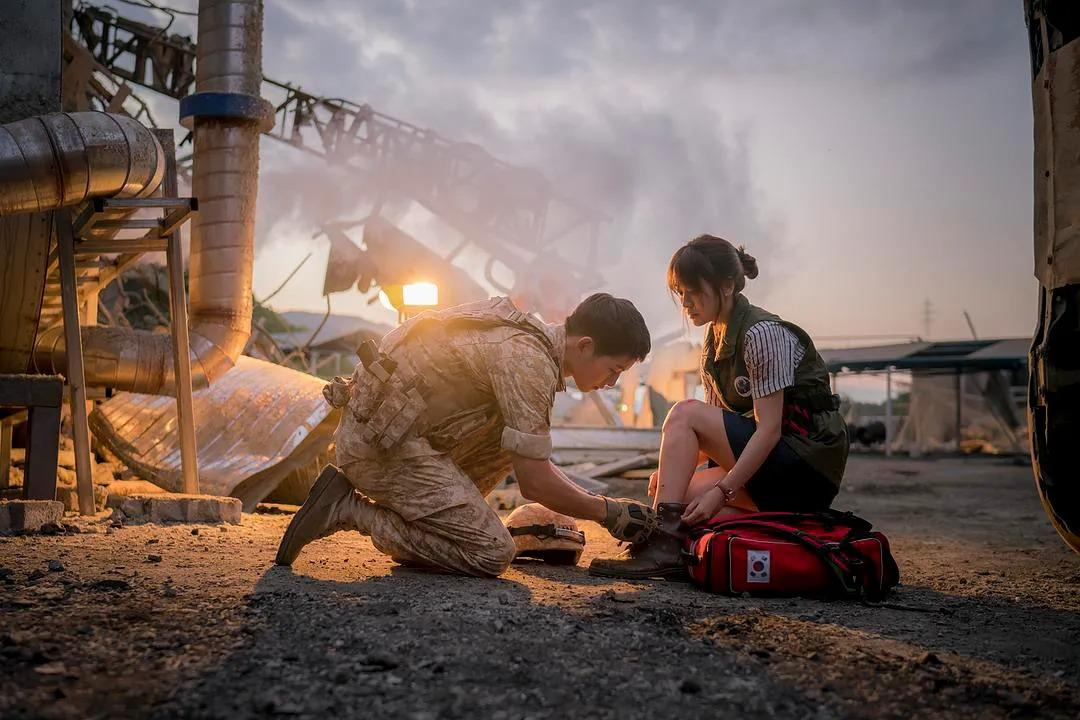bending: (275, 284, 652, 591), (625, 231, 857, 576)
